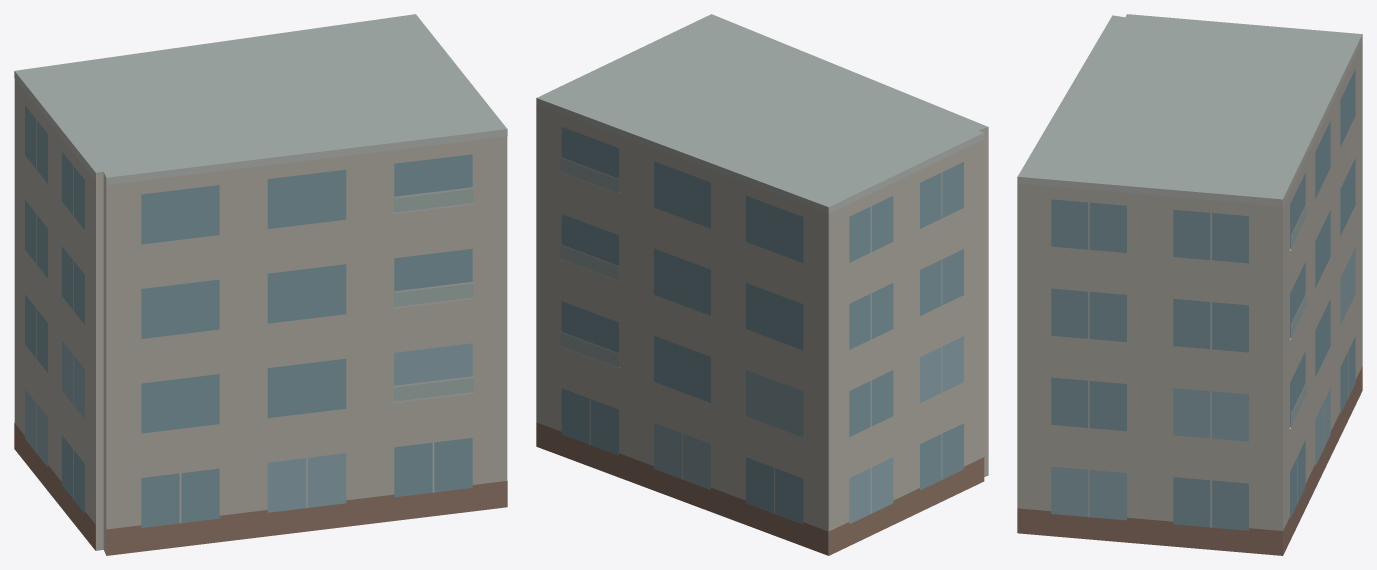
File: survey-upis-32805262.glb
3 renders of one model, left to right at view 1: azimuth 30°, elevation 25°; view 2: azimuth 150°, elevation 25°; view 3: azimuth 270°, elevation 25°, orthographic. The views are drawn at different scales.
Visible parts, largest first — view 1: survey-upis-32805262.tmp; view 2: survey-upis-32805262.tmp; view 3: survey-upis-32805262.tmp.
Part boxes in pixels (x1,y1,x2,y2): survey-upis-32805262.tmp: (14, 14, 507, 555); survey-upis-32805262.tmp: (536, 14, 988, 555); survey-upis-32805262.tmp: (1017, 14, 1362, 555).
Size of the model in its own units: 14.28 by 12.8 by 11.24.
